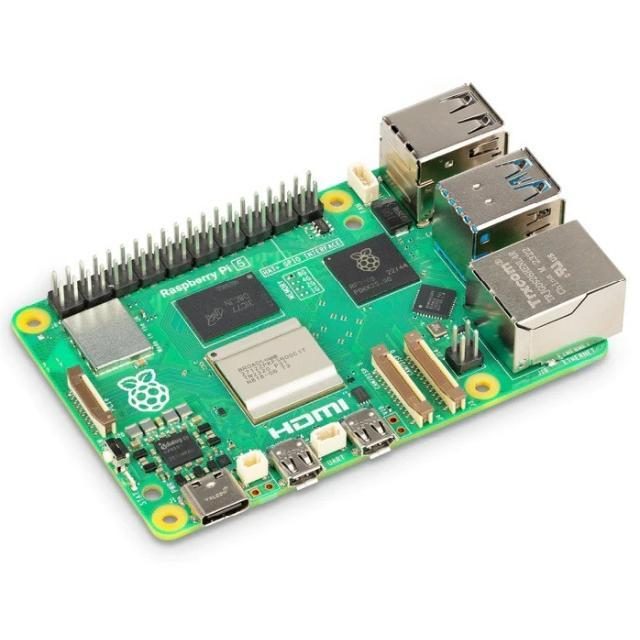Raspberry-Pi-5: (13, 85, 625, 541)
